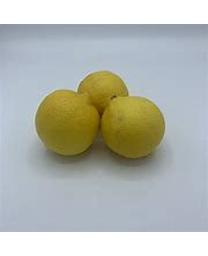lemon: (34, 90, 102, 157), (102, 98, 165, 158), (79, 69, 130, 117)
